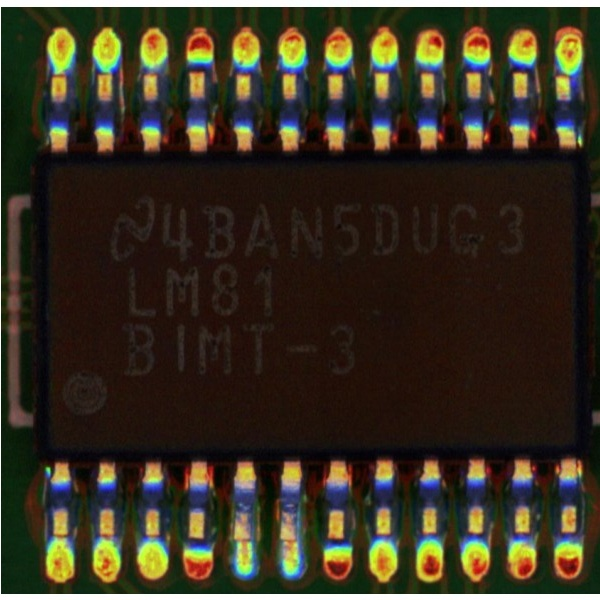Bad_podu: (279, 529, 296, 555), (236, 532, 248, 554)
